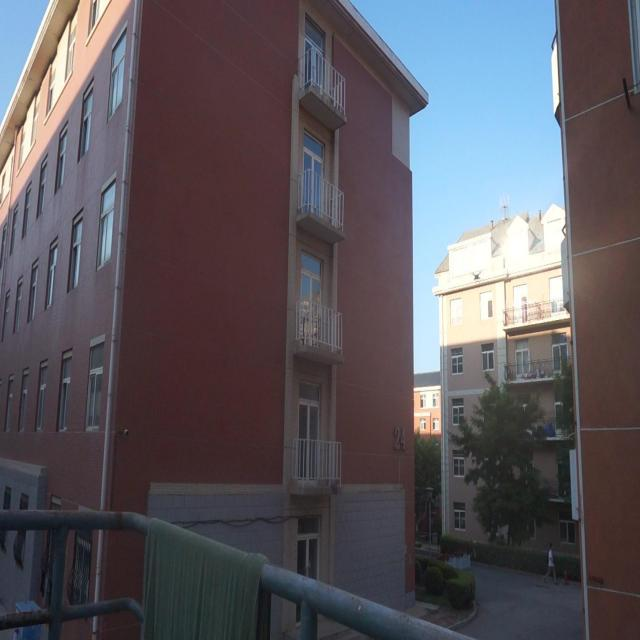UAV: (469, 270, 483, 281)
